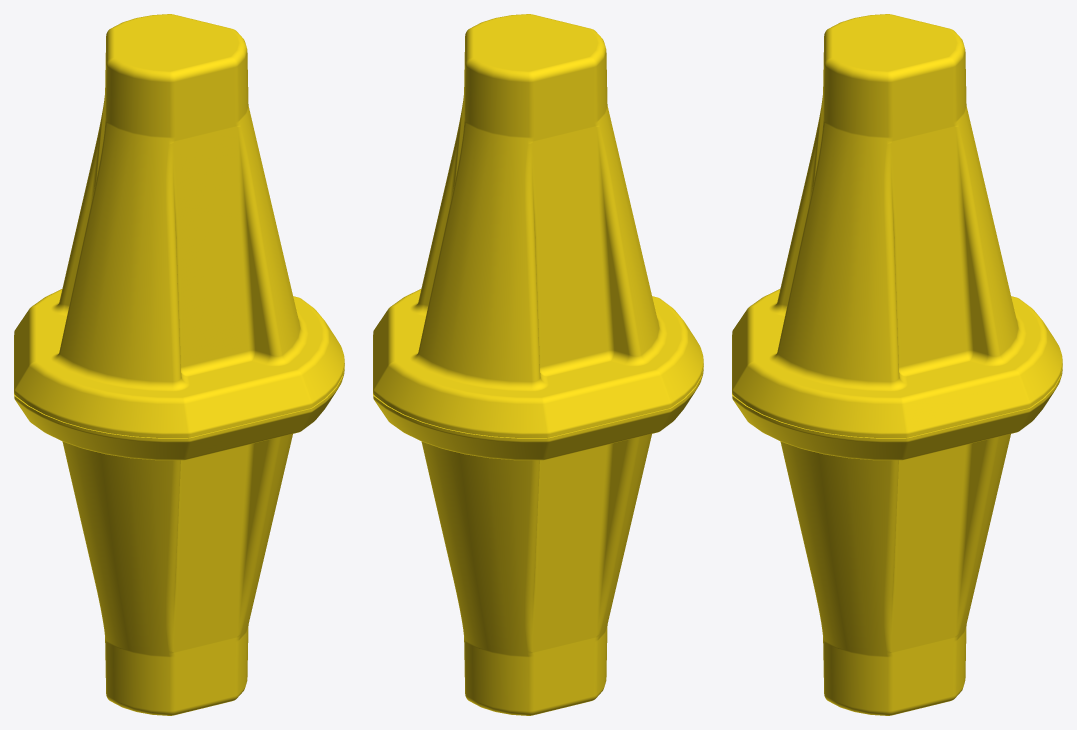
Rendered from V5RC-Override-H2H-_-YellowYellowPin.glb.
The picture shows the model from 3 angles, left to right: view 1: azimuth 30°, elevation 25°; view 2: azimuth 150°, elevation 25°; view 3: azimuth 270°, elevation 25°; orthographic projection.
Parts seen in each view (by area): view 1: V5RC-Override-H2H-_-YellowYellowPin; view 2: V5RC-Override-H2H-_-YellowYellowPin; view 3: V5RC-Override-H2H-_-YellowYellowPin.
Part boxes in pixels (x1,y1,x2,y2): V5RC-Override-H2H-_-YellowYellowPin: (14, 14, 344, 715); V5RC-Override-H2H-_-YellowYellowPin: (373, 14, 703, 715); V5RC-Override-H2H-_-YellowYellowPin: (732, 14, 1062, 715).
Bounding box in the file's own units: 0.0801 × 0.165 × 0.0768.
